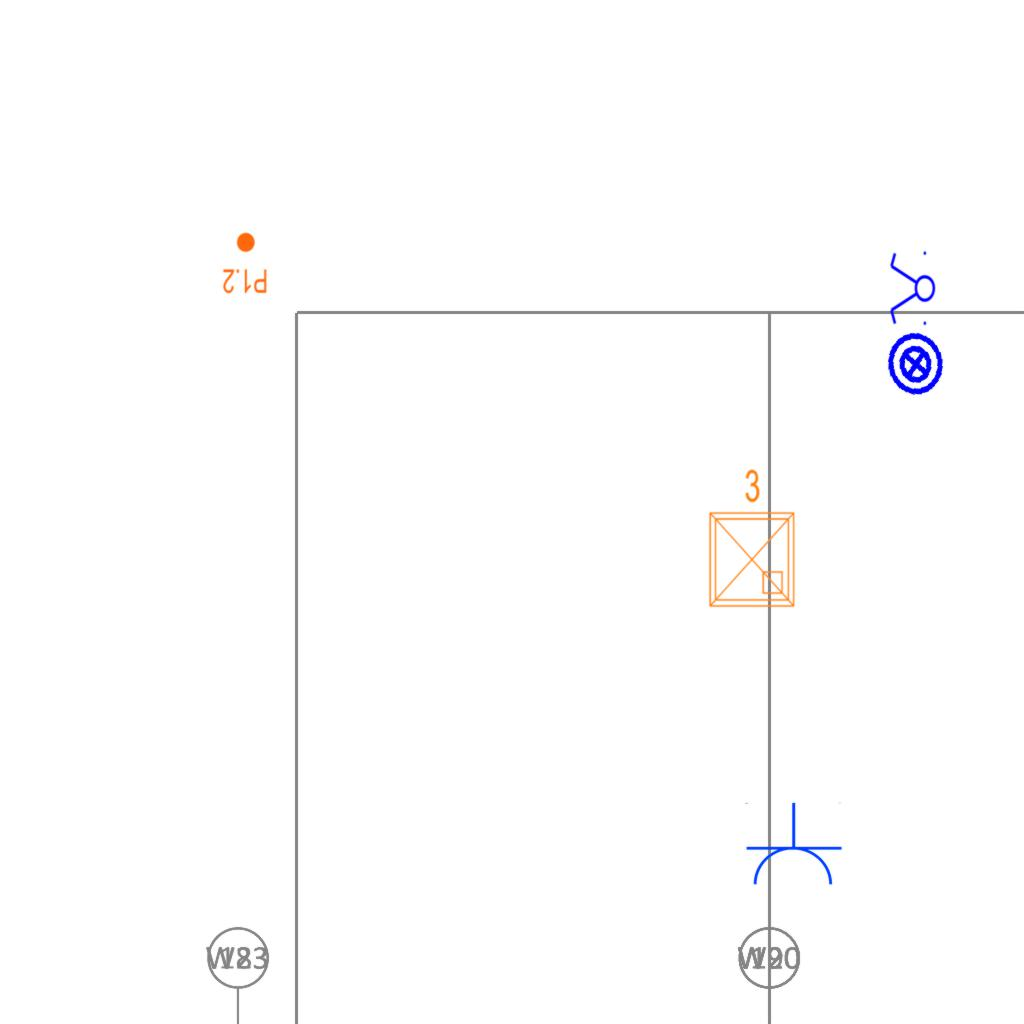Downlight_LED_Einbauleuchten_Flur: (222, 231, 268, 295)
Einbaudownlights_LED_Konferenzraeume: (698, 464, 802, 614)
Schukosteckdose_einfach: (743, 802, 843, 889)
Serienschalter: (888, 247, 936, 331)
Taster_beleuchtet: (878, 326, 954, 402)
